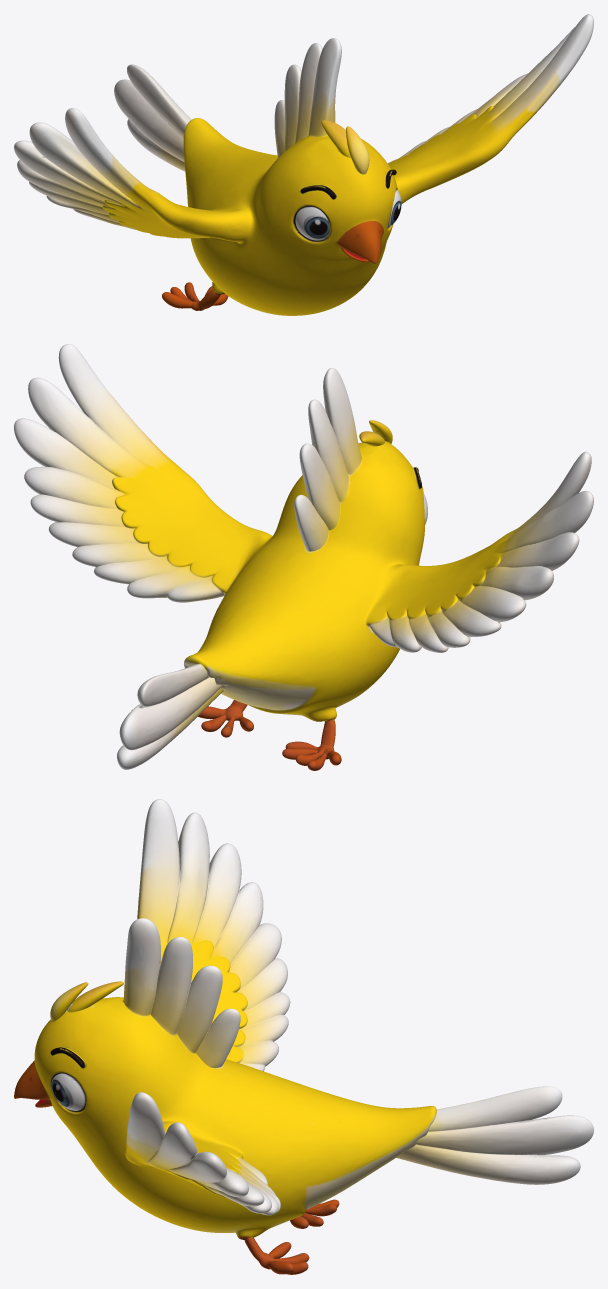
3 renders of one model, top to bottom at view 1: azimuth 30°, elevation 25°; view 2: azimuth 150°, elevation 25°; view 3: azimuth 270°, elevation 25°, orthographic. The views are drawn at different scales.
Size of the model in its own units: 1.9 by 1.02 by 1.61.
1 material, 1 textured.
